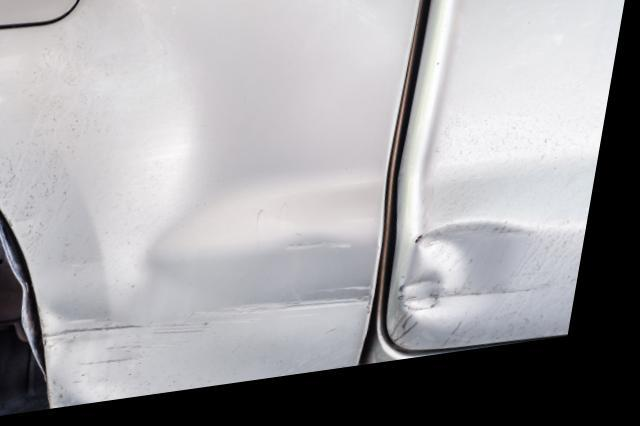dent: (56, 0, 391, 409), (417, 240, 535, 336)
